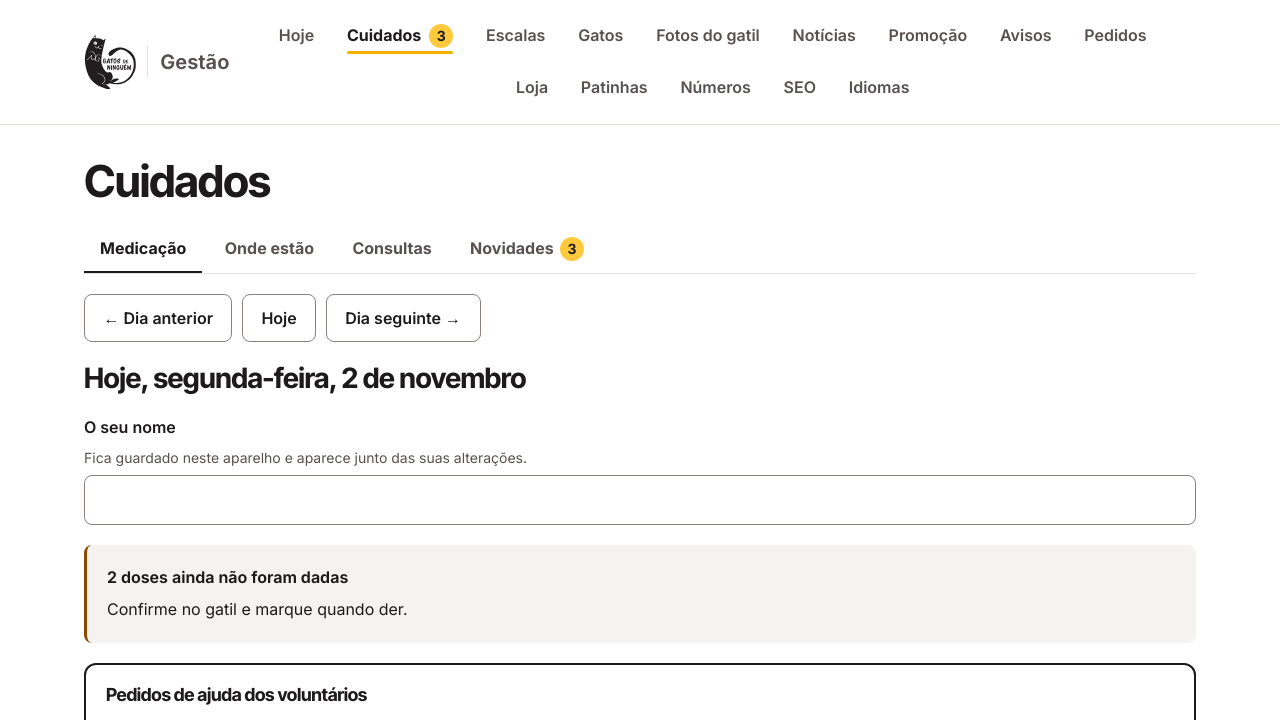
Scenario: Novidades › shows unread changes in the menu until they are opened
The image size is (1280, 720).
Expected: the link "Cuidados 3" is shown, [347,24,453,48]
Click the tab "Novidades 3": (527, 249) [454,225,600,273]
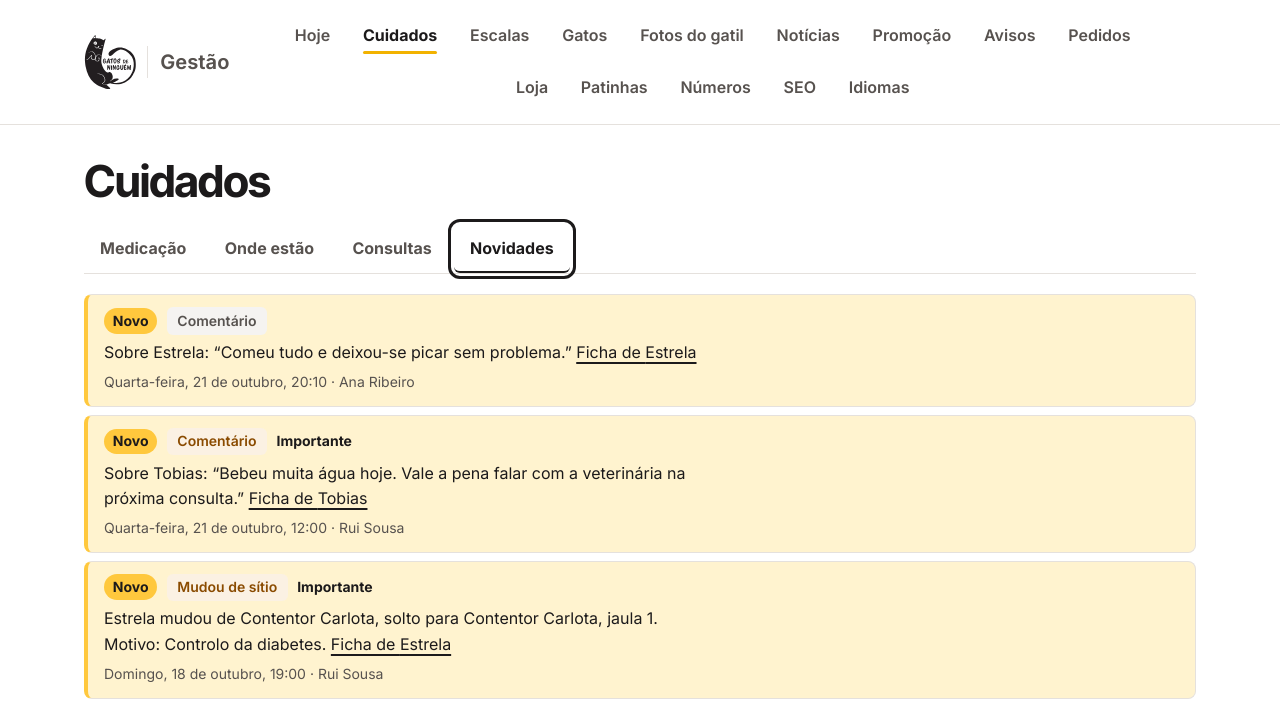
Expected: the text "Novo" is shown 3 times, [104,308,157,334]; [104,428,157,454]; [104,574,157,600]
